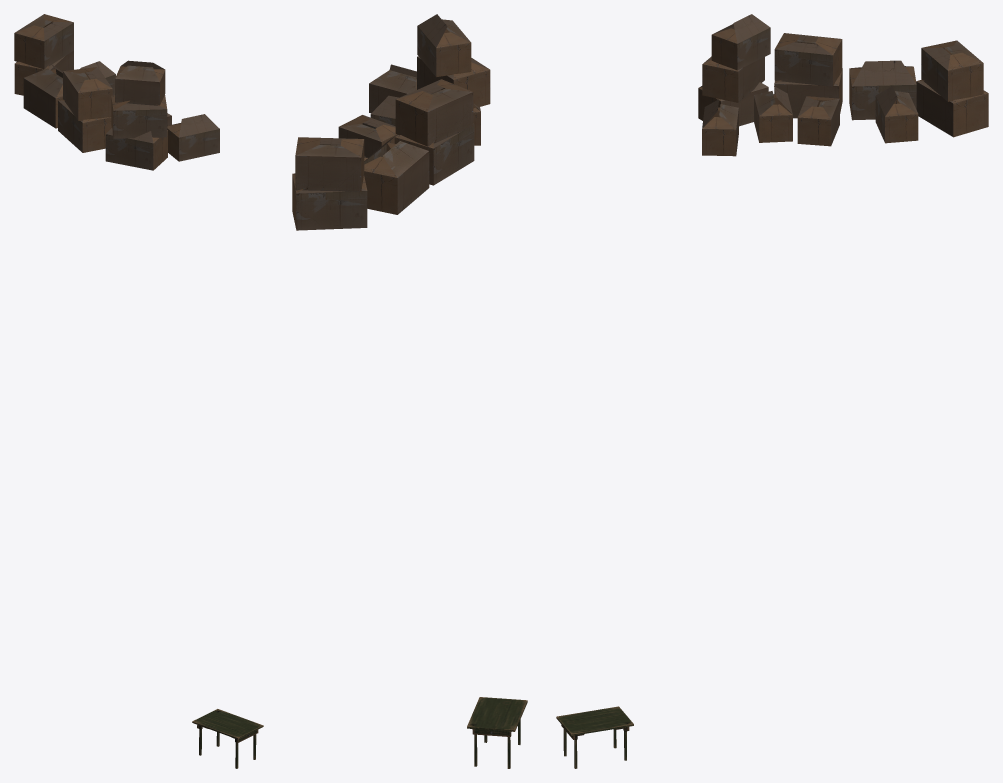
File: mesa.fbx
3 views of the same model, side by side, from view 1: azimuth 30°, elevation 25°; view 2: azimuth 150°, elevation 25°; view 3: azimuth 270°, elevation 25° (orthographic). The views are drawn at different scales.
Parts seen in each view (by area): view 1: Boxes, table_cafe; view 2: Boxes, table_cafe; view 3: Boxes, table_cafe.
Part boxes in pixels (left/top/right/bottom): Boxes: left=14, top=14, right=219, bottom=170; table_cafe: left=192, top=709, right=263, bottom=768; Boxes: left=292, top=14, right=490, bottom=230; table_cafe: left=467, top=697, right=527, bottom=768; Boxes: left=698, top=14, right=988, bottom=156; table_cafe: left=556, top=706, right=633, bottom=768.
Size of the model in its own units: 292 by 1711 by 921.
